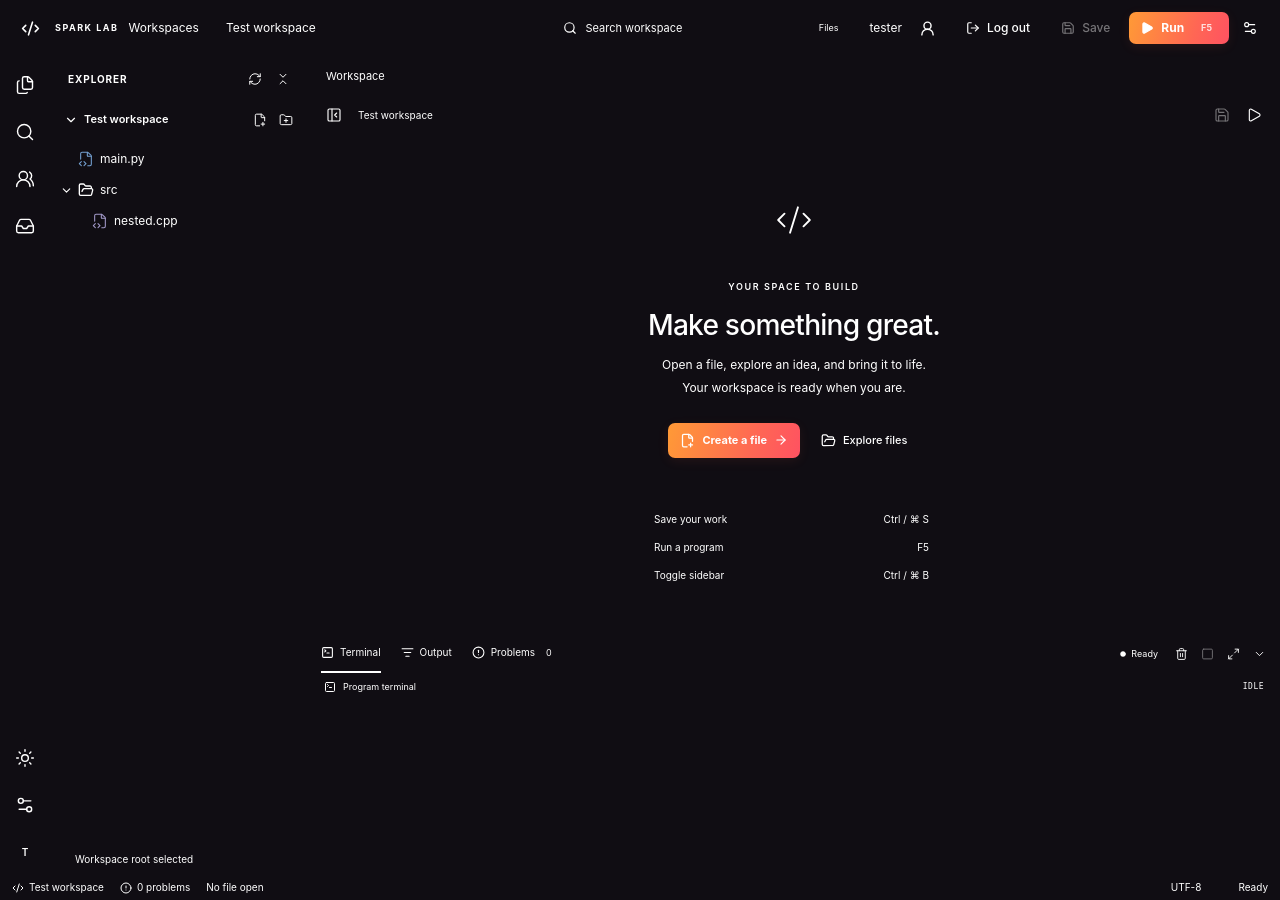
file and folder operations › creates a folder with correct parent/folder destination 33333333-3333-4333-8333-333333333333
The image size is (1280, 900).
Expected: the button with aria-label "Select workspace root" is shown, [61,111,248,128]
Click the button "src".
click(179, 190)  # box [56,175,302,205]
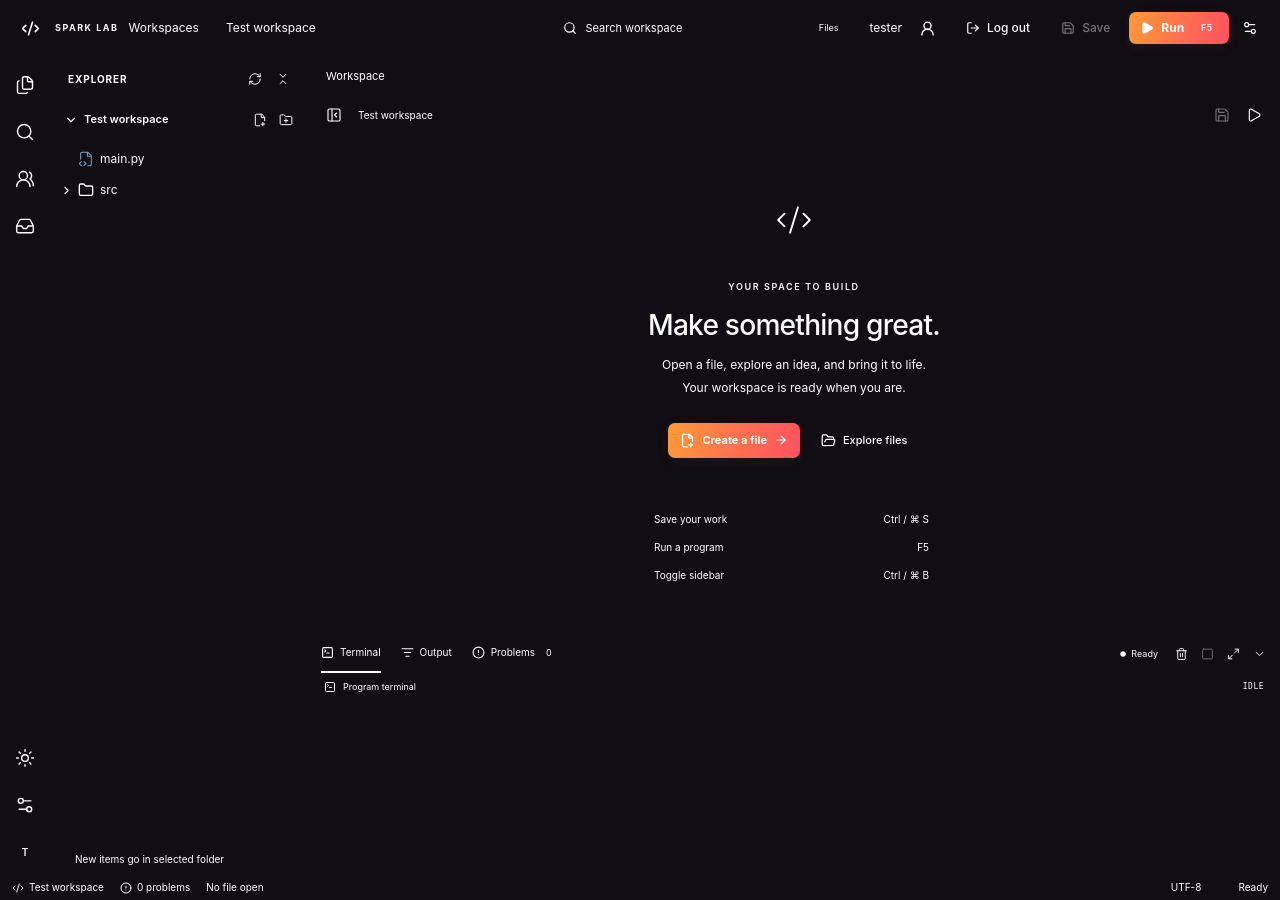
Click the button named "New Folder".
click(286, 120)  # box [274,108,297,132]
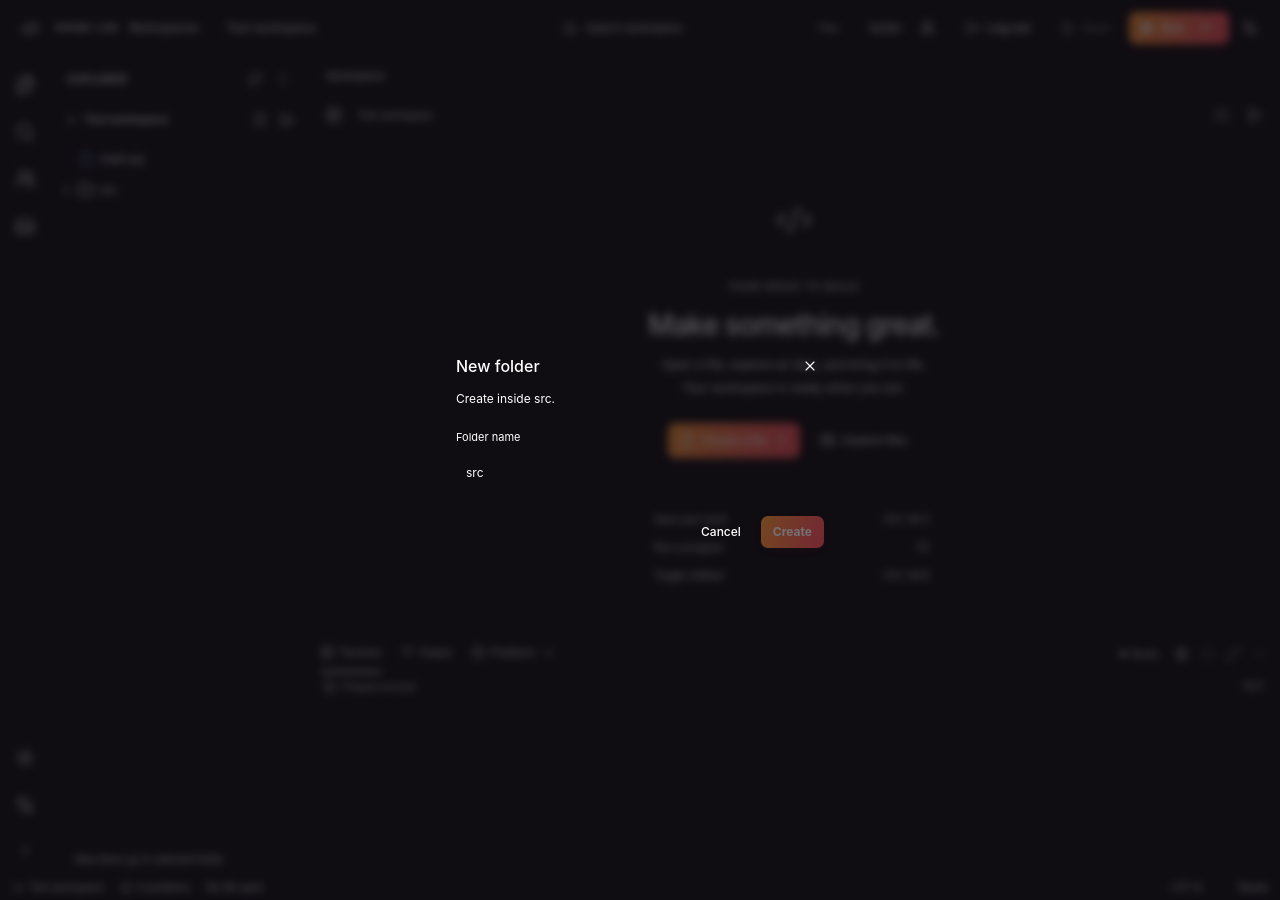
Type "child" into the field labelled "Folder name".
click(640, 473); type("child")  # box [456,454,824,492]
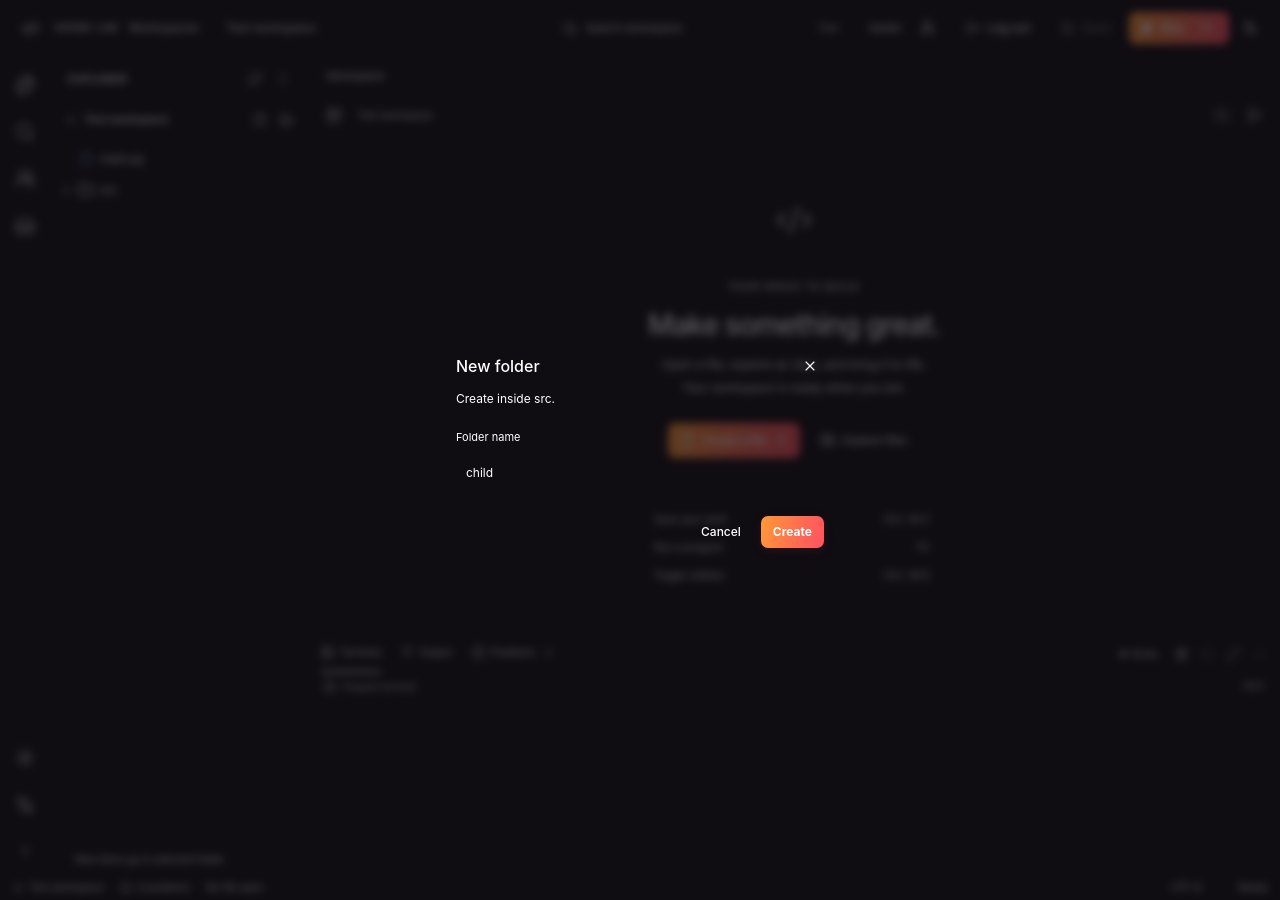
Click the button "Create".
click(792, 532)  # box [761,516,824,548]
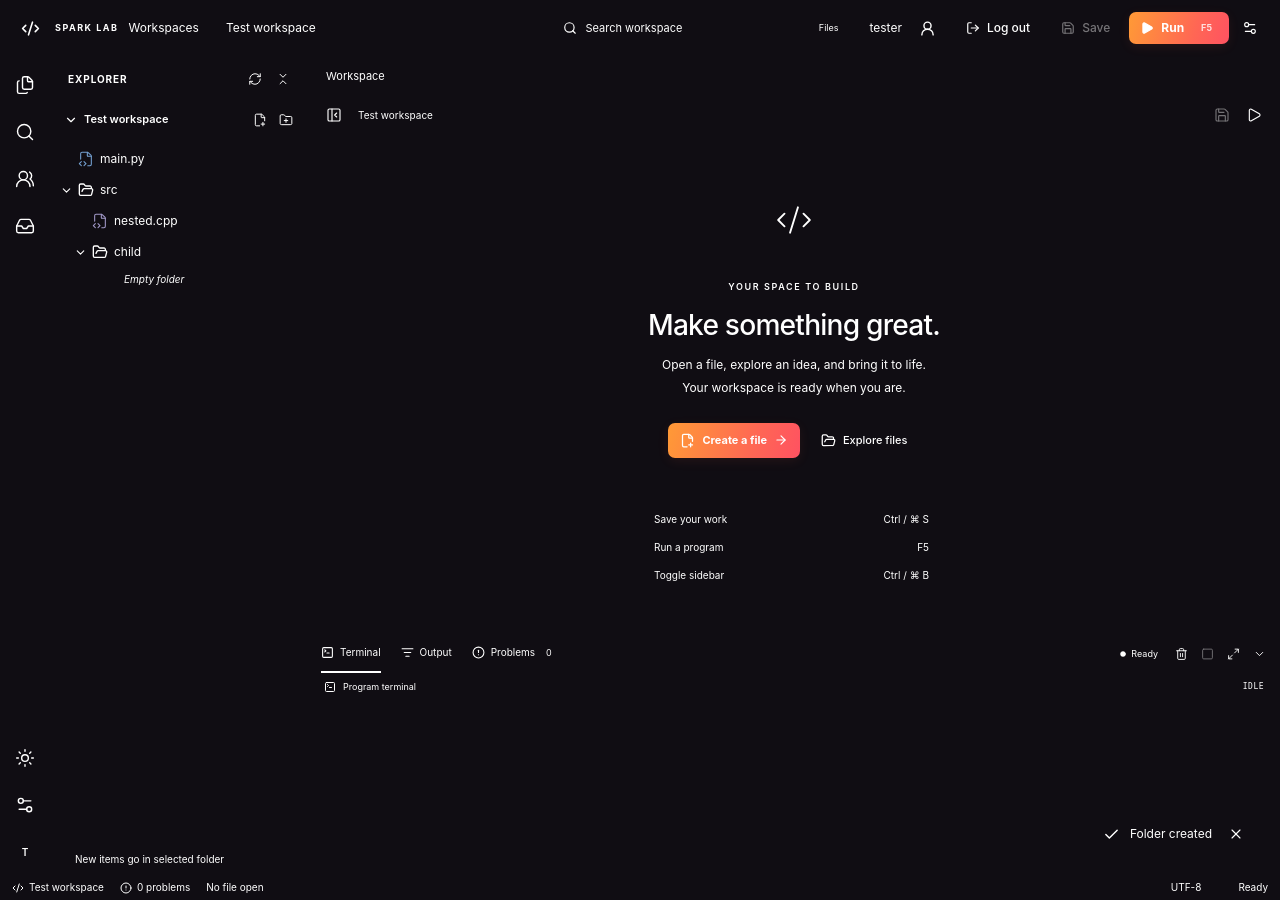
Result: the dialog is gone
